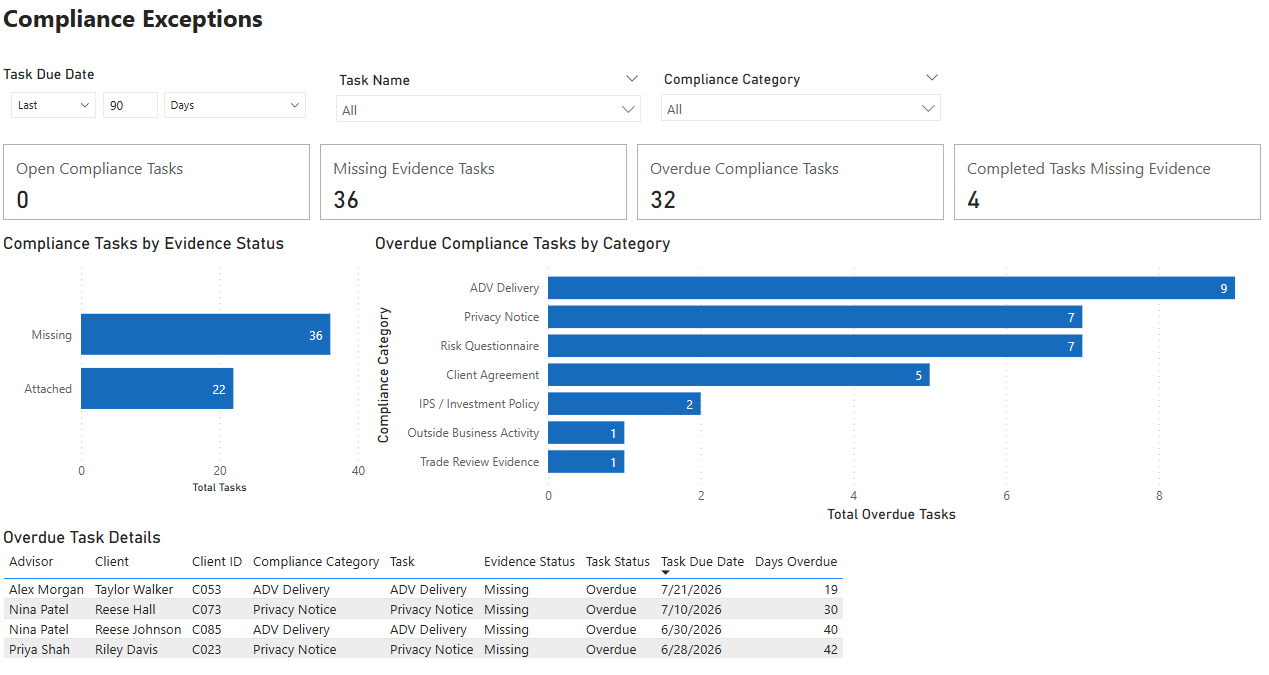

The page's visual inventory and layout, read from the dashboard file:
{"tool":"powerbi","page":{"name":"Compliance Exceptions","canvas":[1280,720],"ordinal":4},"visuals":[{"type":"cardVisual","fields":{"Data":["FactComplianceTasks.Total Open Compliance Tasks","FactComplianceTasks.Compliance Evidence Missing","FactComplianceTasks.Total Overdue Compliance Tasks","FactComplianceTasks.Completed Missing Evidence"]},"box":[0,143,1270,86],"z":0},{"type":"barChart","title":"Compliance Tasks by Evidence Status","fields":{"Category":["FactComplianceTasks.Compliance Evidence Status"],"Y":["CountNonNull(FactComplianceTasks.TaskID)"]},"box":[0,237,372,265],"z":1000},{"type":"barChart","title":"Overdue Compliance Tasks by Category","fields":{"Category":["DimComplianceCategory.ComplianceCategory"],"Y":["FactComplianceTasks.Total Overdue Compliance Tasks"]},"box":[372,237,874,294],"z":2000},{"type":"tableEx","title":"Overdue Task Details","fields":{"Values":["DimAdvisor.AdvisorName","DimClient.Client Name","FactComplianceTasks.ClientID","DimComplianceCategory.Compliance Category","FactComplianceTasks.Task Name","FactComplianceTasks.Compliance Evidence Status","FactComplianceTasks.Task Status","FactComplianceTasks.Compliance Due Date Display","FactComplianceTasks.Compliance Tasks Days Overdue"]},"box":[0,531,1280,189],"z":3000},{"type":"slicer","title":"Task Due Date","fields":{"Values":["FactComplianceTasks.Due Date"]},"box":[0,70,322,62],"z":4000},{"type":"slicer","fields":{"Values":["FactComplianceTasks.Task Name"]},"box":[328,71,325,59],"z":5000},{"type":"textbox","box":[0,0,432,63],"z":6000},{"type":"slicer","fields":{"Values":["DimComplianceCategory.Compliance Category"]},"box":[653,70,300,67],"z":7000}]}

Visuals, with their boxes on the page's 1280x720 design canvas (x1, y1, x2, y2). These are canvas units, not pixel positions in the 1269x675 screenshot, which may show the page scaled, cropped or inside an application window:
cardVisual - FactComplianceTasks.Total Open Compliance Tasks x FactComplianceTasks.Compliance Evidence Missing: Rect(0, 143, 1270, 229)
"Compliance Tasks by Evidence Status" barChart: Rect(0, 237, 372, 502)
"Overdue Compliance Tasks by Category" barChart: Rect(372, 237, 1246, 531)
"Overdue Task Details" tableEx: Rect(0, 531, 1280, 720)
"Task Due Date" slicer: Rect(0, 70, 322, 132)
slicer - FactComplianceTasks.Task Name: Rect(328, 71, 653, 130)
textbox: Rect(0, 0, 432, 63)
slicer - DimComplianceCategory.Compliance Category: Rect(653, 70, 953, 137)
